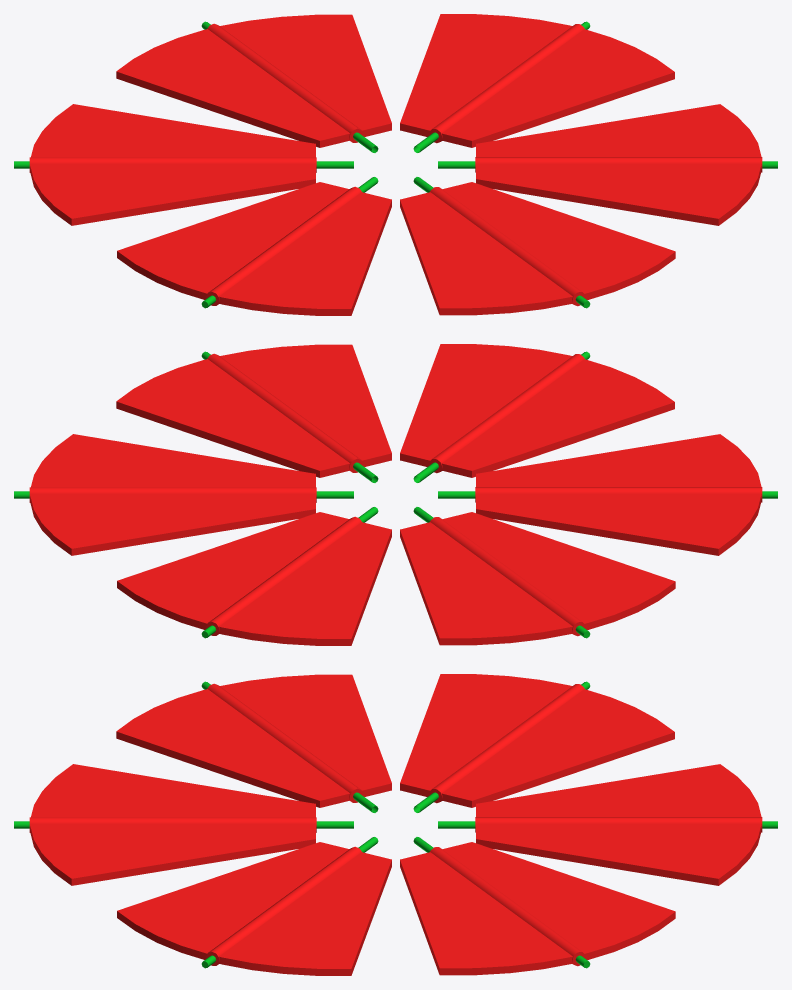
The model's file is diffuzorLopasti.FBX.
The picture shows the model from 3 angles, top to bottom: view 1: azimuth 30°, elevation 25°; view 2: azimuth 150°, elevation 25°; view 3: azimuth 270°, elevation 25°; orthographic projection.
Visible parts, largest first — view 1: vnutri368, vnutri365, vnutri350, vnutri366, vnutri364, vnutri367; view 2: vnutri364, vnutri367, vnutri365, vnutri368, vnutri366, vnutri350; view 3: vnutri366, vnutri350, vnutri367, vnutri364, vnutri368, vnutri365.
Part boxes in pixels (x1,y1,x2,y2): vnutri368: [438, 104, 777, 225]; vnutri365: [14, 104, 353, 225]; vnutri350: [400, 177, 675, 315]; vnutri366: [116, 14, 391, 152]; vnutri364: [117, 177, 391, 315]; vnutri367: [400, 14, 674, 152]; vnutri364: [438, 434, 777, 555]; vnutri367: [14, 434, 353, 555]; vnutri365: [400, 507, 675, 645]; vnutri368: [116, 344, 391, 482]; vnutri366: [117, 507, 391, 645]; vnutri350: [400, 344, 674, 482]; vnutri366: [438, 764, 777, 885]; vnutri350: [14, 764, 353, 885]; vnutri367: [400, 837, 675, 975]; vnutri364: [116, 674, 391, 812]; vnutri368: [117, 837, 391, 975]; vnutri365: [400, 674, 674, 812].
Bounding box in the file's own units: 464 × 10.38 × 508.
